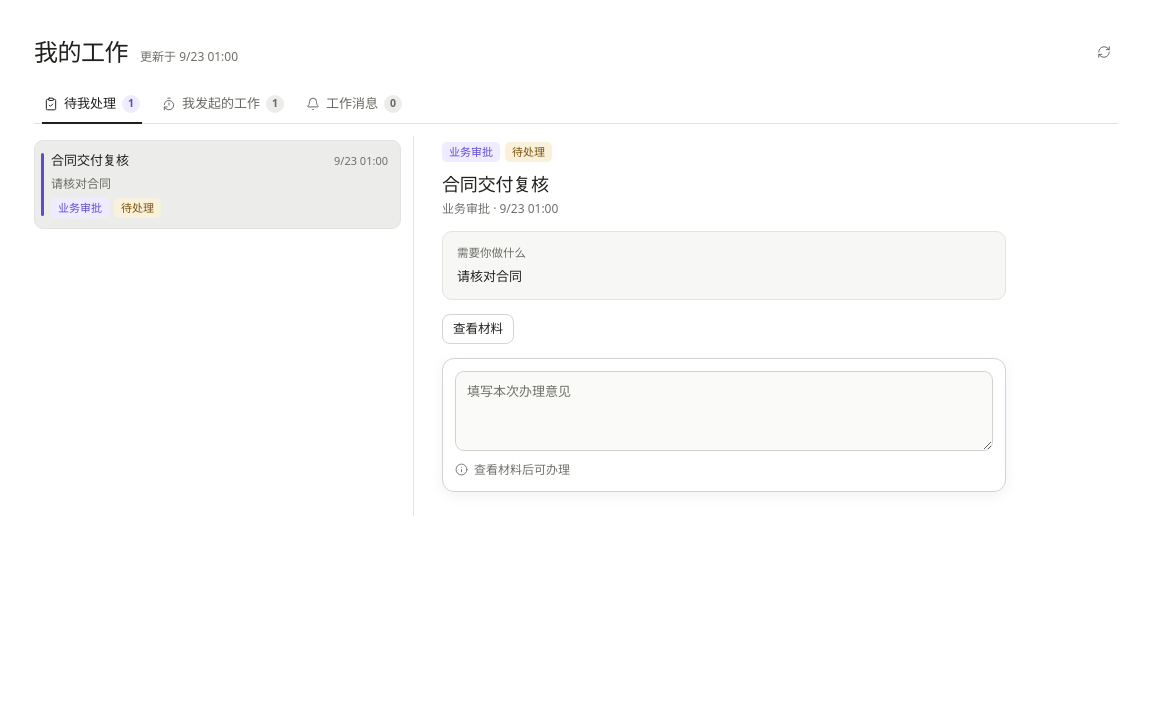
Scenario: keeps the approval on the work page when a fresh renderer session cannot be opened
The image size is (1152, 720).
Click the button "查看材料".
click(478, 329)  # box [442,314,514,344]
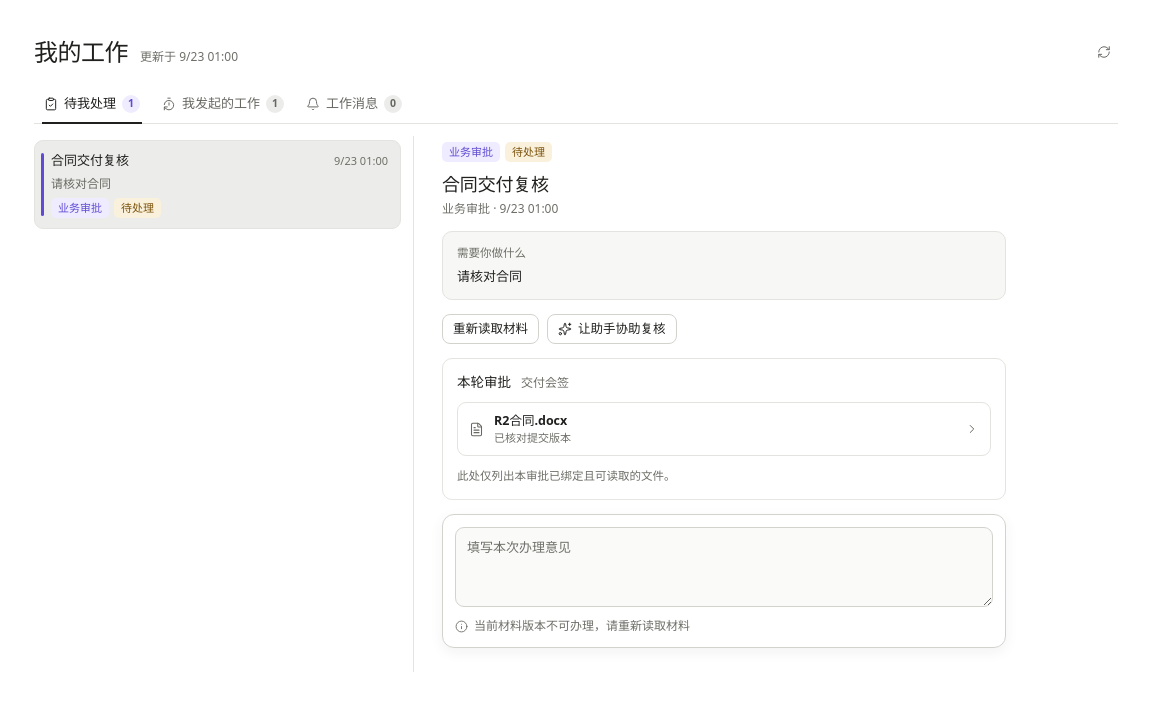
Click the button "让助手协助复核".
click(612, 329)  # box [547,314,676,344]
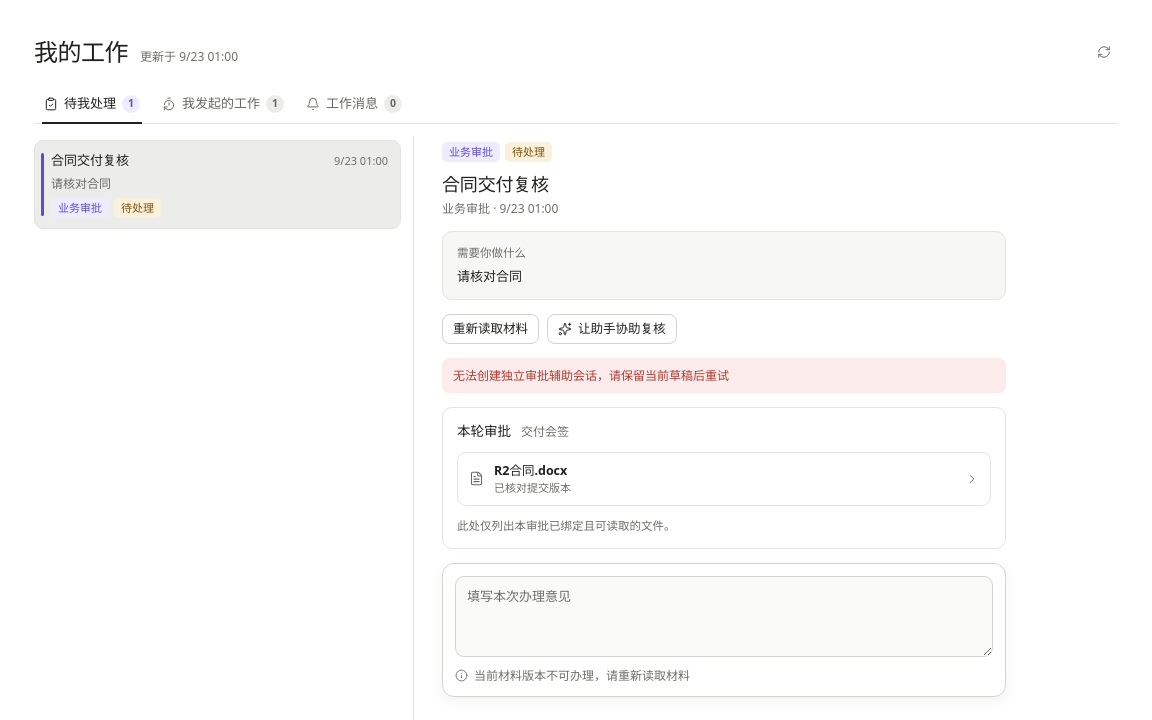
Result: the message "无法创建独立审批辅助会话，请保留当前草稿后重试" is shown at [442,358,1006,393]
